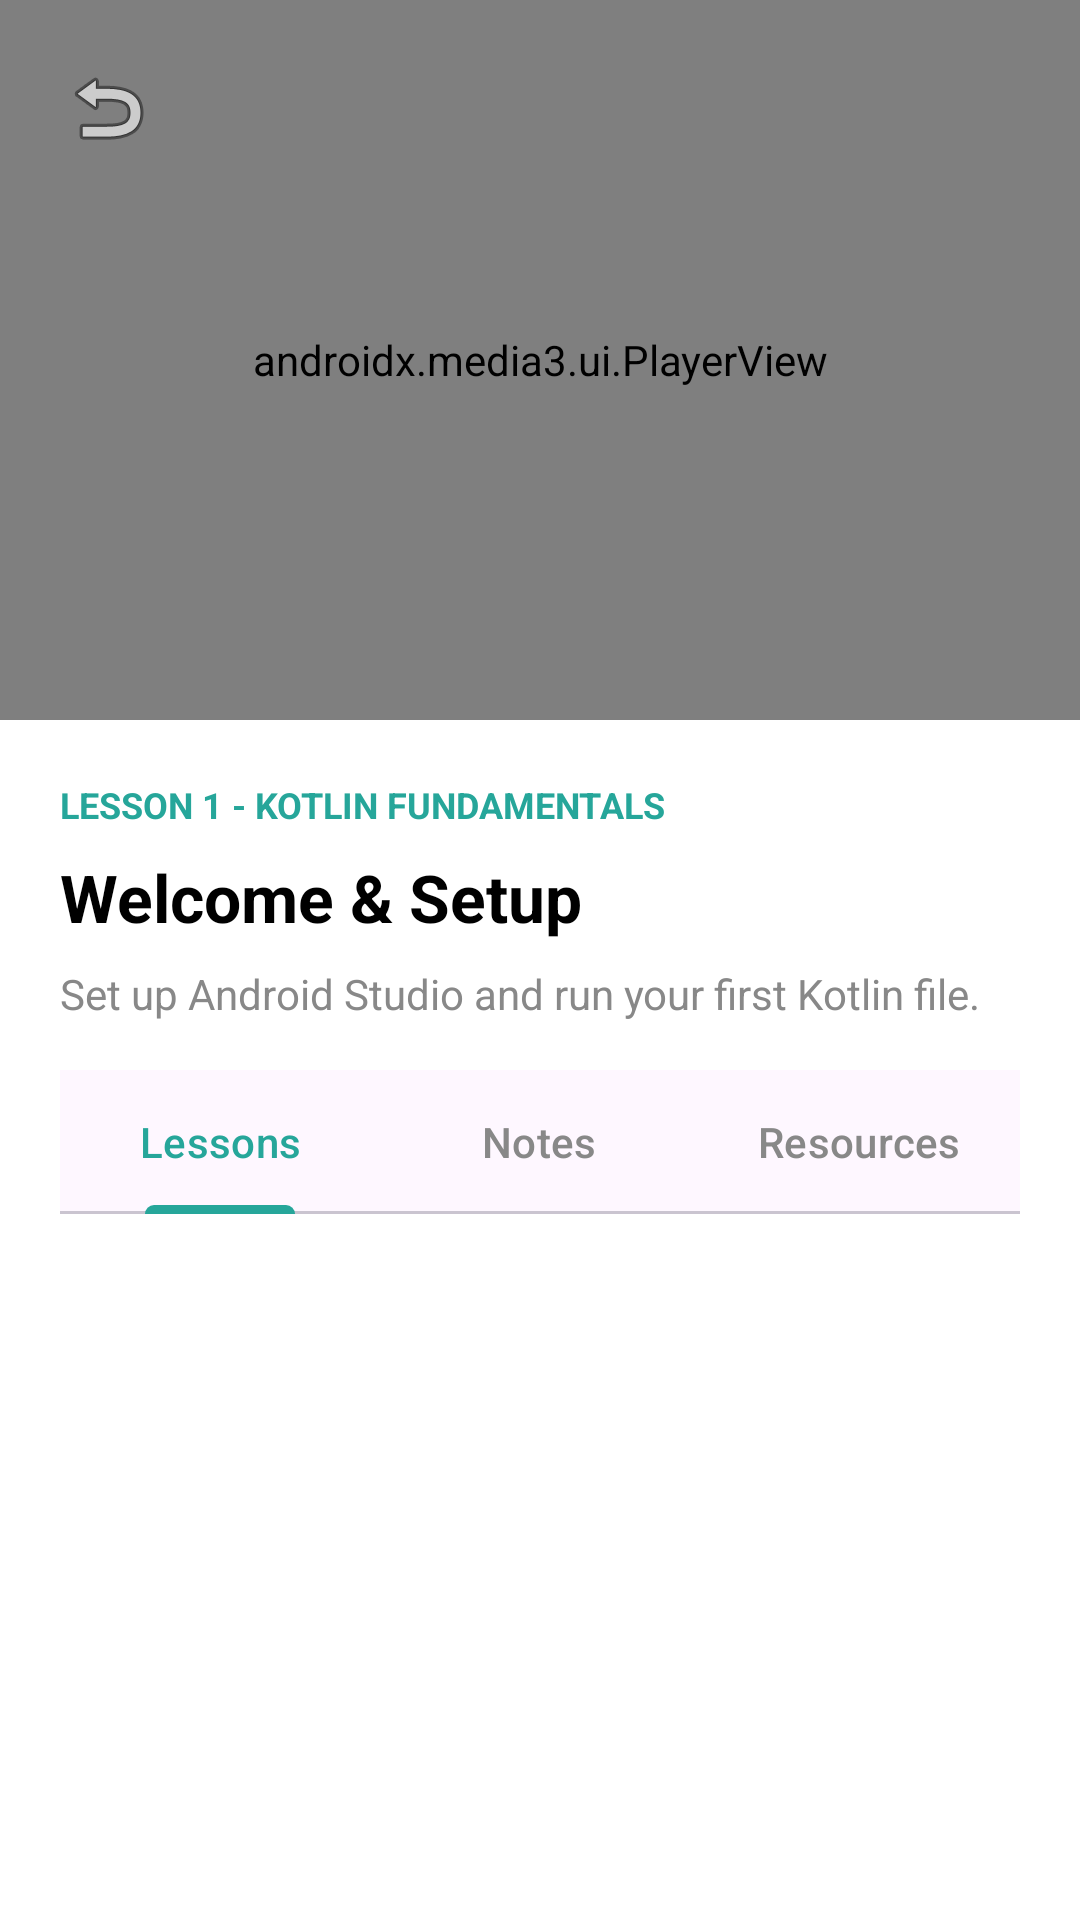

Screen size 1080×1920. Icon name, then its center in pixels as [x,y]:
revert: [109,109]
